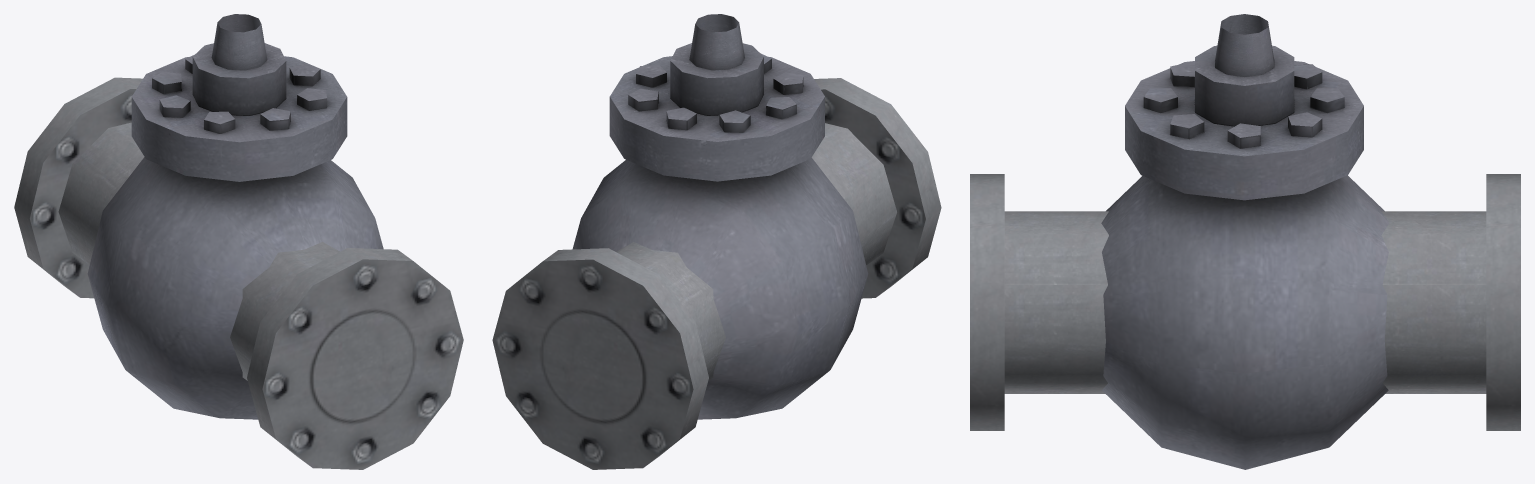
The model's file is valve_02_pipe.FBX.
3 renders of one model, left to right at view 1: azimuth 30°, elevation 25°; view 2: azimuth 150°, elevation 25°; view 3: azimuth 270°, elevation 25°, orthographic. The views are drawn at different scales.
Visible parts, largest first — view 1: Sphere001; view 2: Sphere001; view 3: Sphere001.
Boxes of the visible parts, x1,y1,x2,y2 form: Sphere001: [14, 14, 463, 469]; Sphere001: [492, 14, 941, 469]; Sphere001: [970, 14, 1520, 469].
Bounding box in the file's own units: 39.04 × 55.21 × 64.01.
